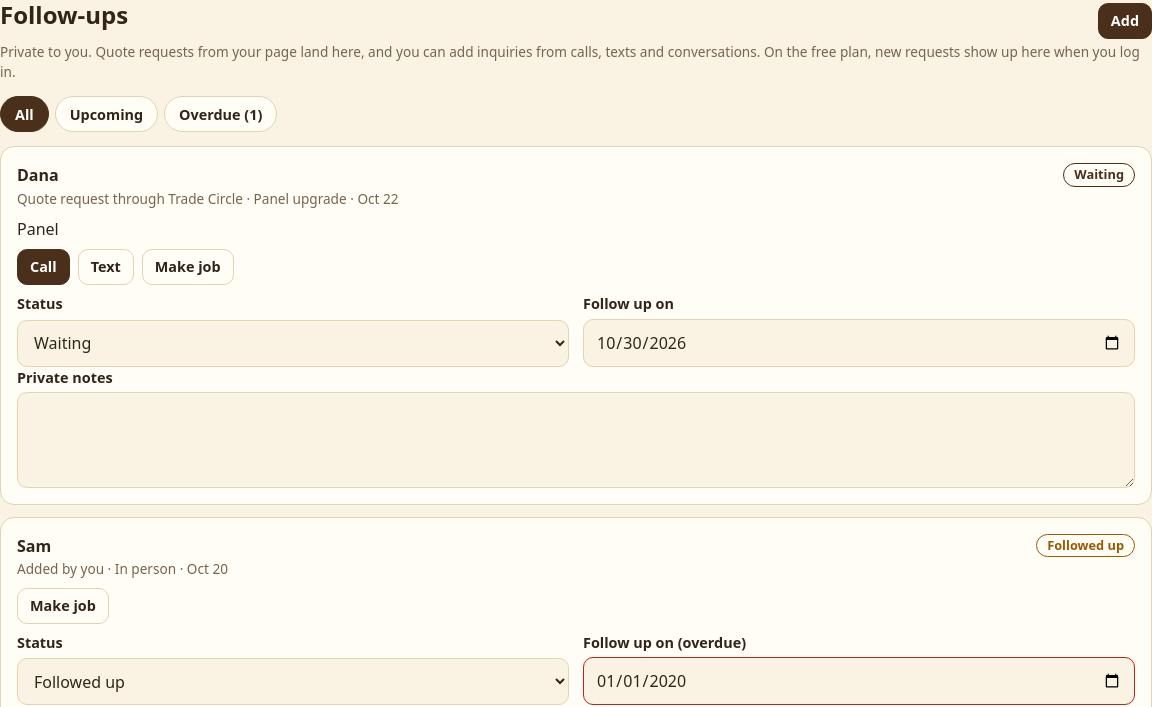
Test case: Follow-up tracker › opens on everything, so new requests without a date are never hidden
This screenshot has width=1152, height=707.
Check: the heading "Dana" is shown, box [17,165,59,185]
Check: the heading "Sam" is shown, box [17,536,51,556]
Click the button "Upcoming" at (106, 114), box [55,96,158,132]
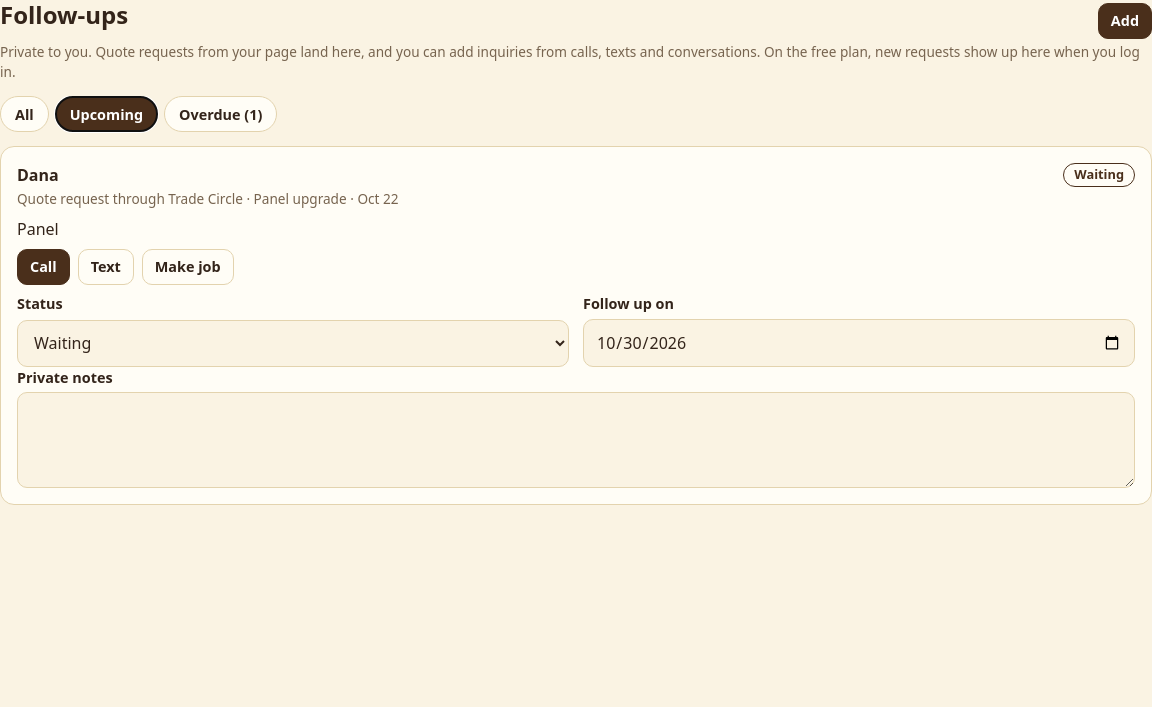
Check: the heading "Dana" is shown, box [17,165,59,185]
Check: the heading "Sam" is gone
Click the button "Overdue (1)" at (221, 114), box [164,96,277,132]
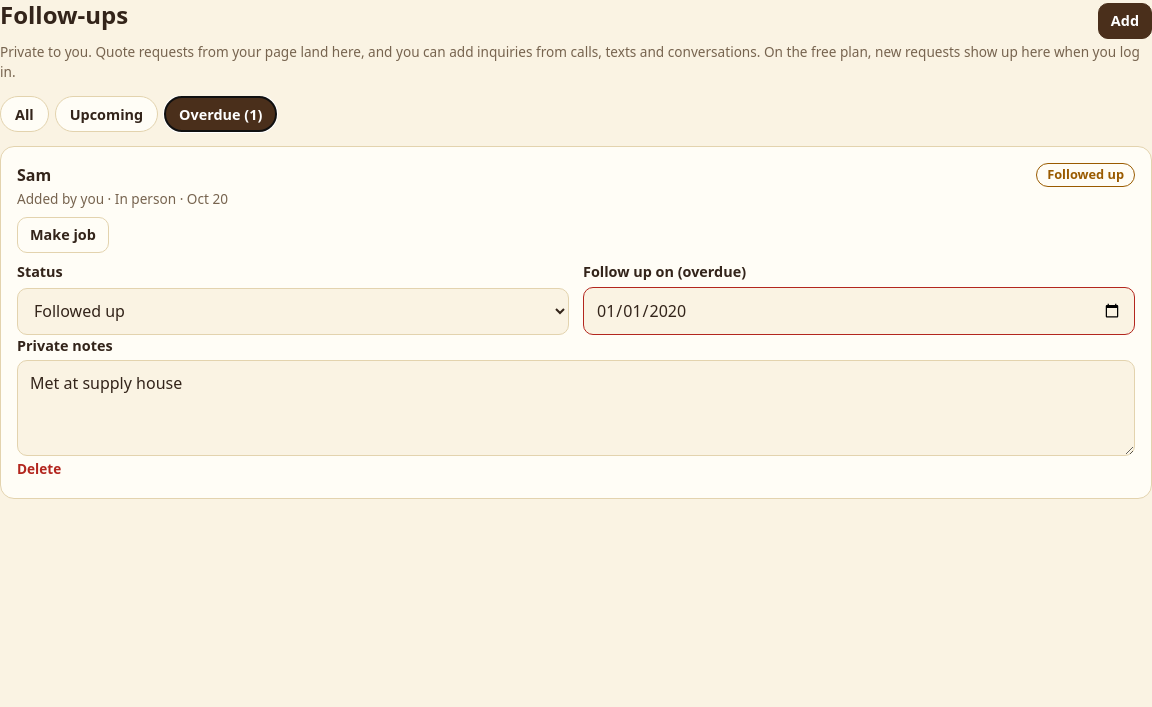
Check: the heading "Sam" is shown, box [17,165,51,185]
Check: the text "Added by you · In person · Oct 20" is shown, box [17,189,228,208]
Check: the text "Follow up on (overdue)" is shown, box [583,262,746,281]
